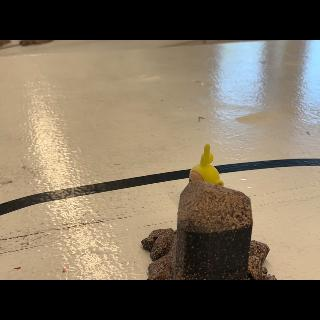teletubby: (189, 144, 223, 186)
